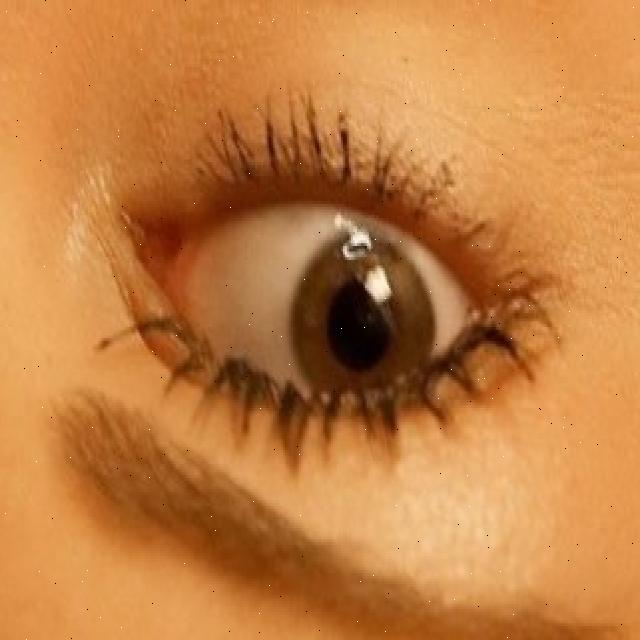Normal: (290, 222, 437, 428)
